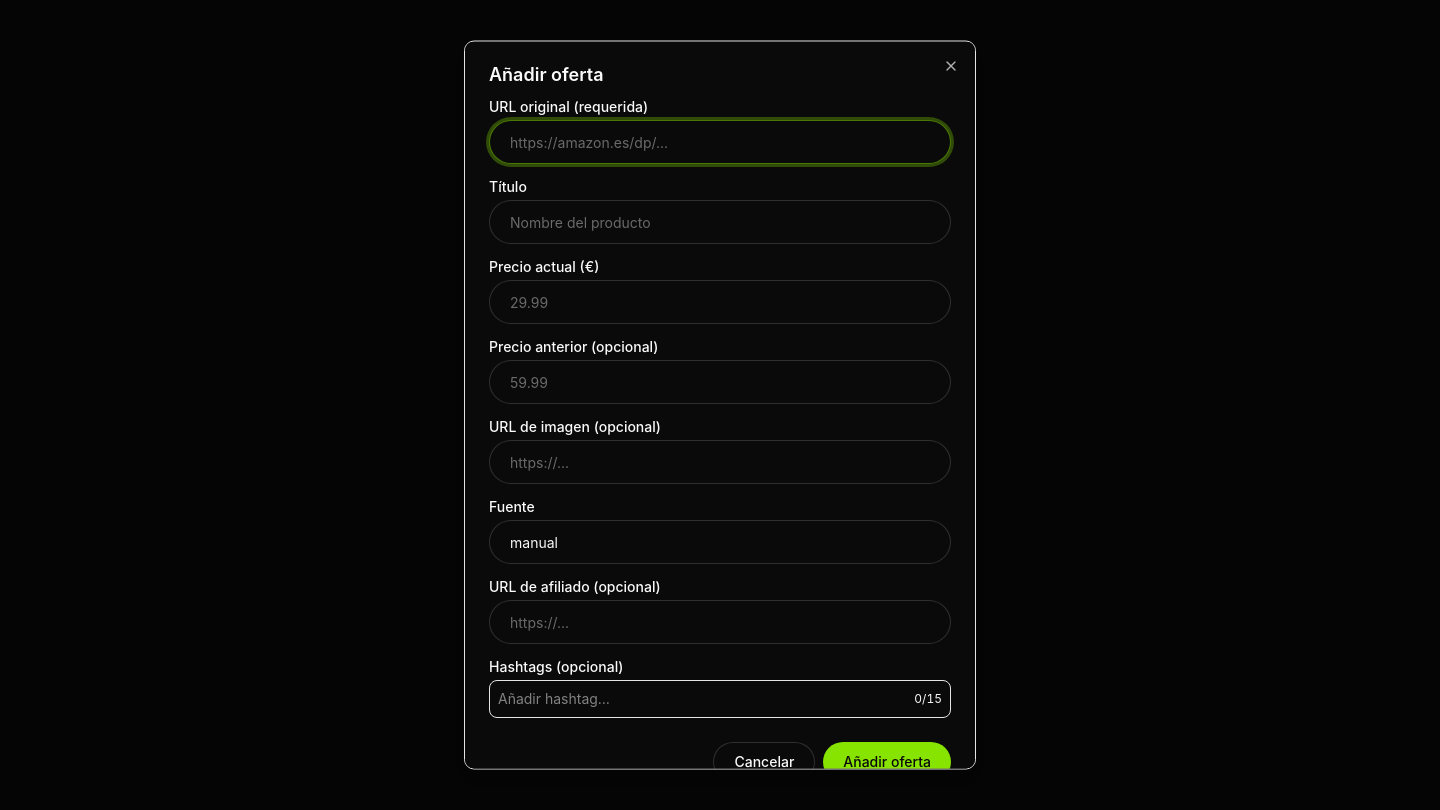
Test: AddDealDialog › (e) on server error shows message and keeps dialog open
The image size is (1440, 810).
Type "https://amazon.es/dp/B123456" into the field labelled "URL original (requerida)" at [720, 142], box [489,120,951,164]
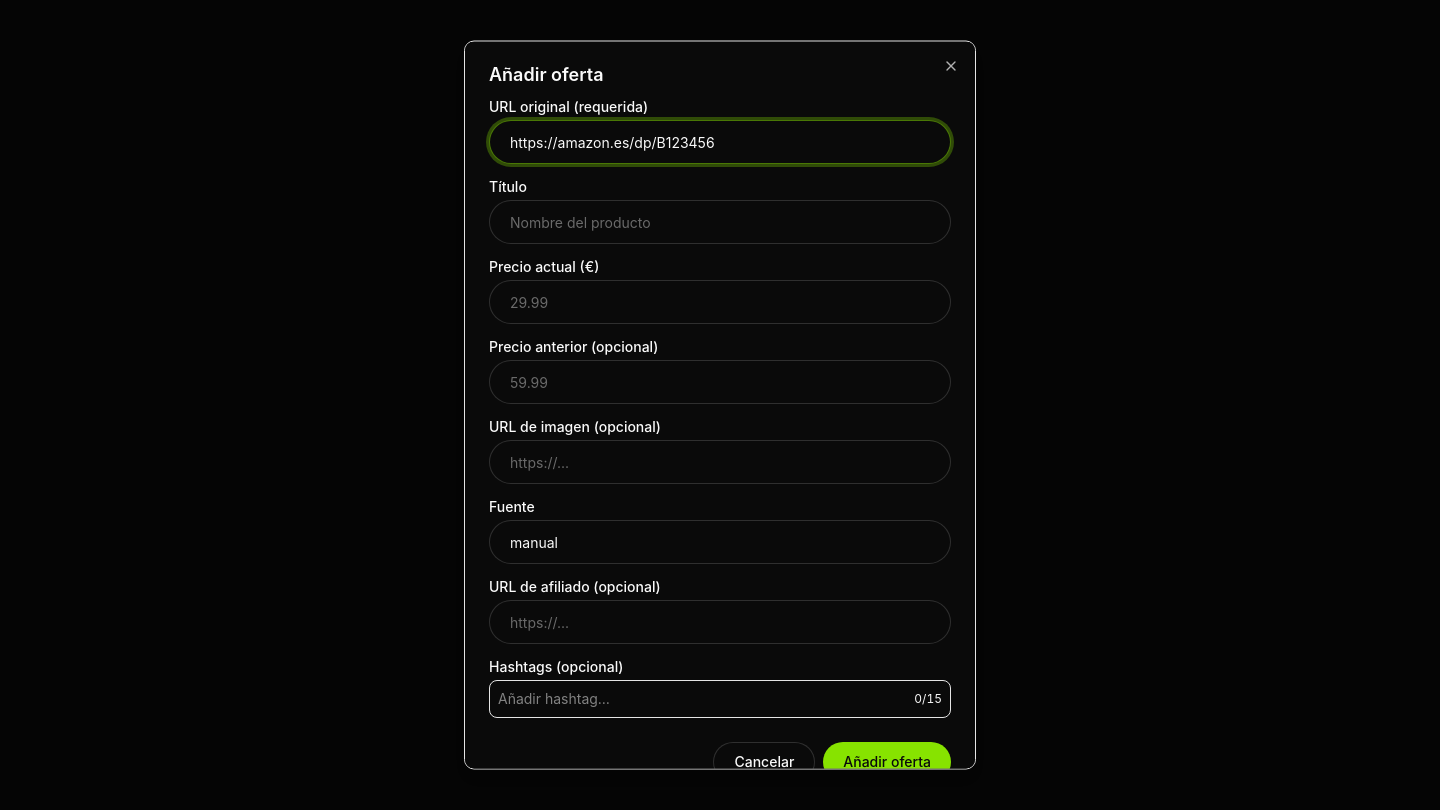
Type "Auriculares Sony" into the field labelled "Título" at [720, 222], box [489,200,951,244]
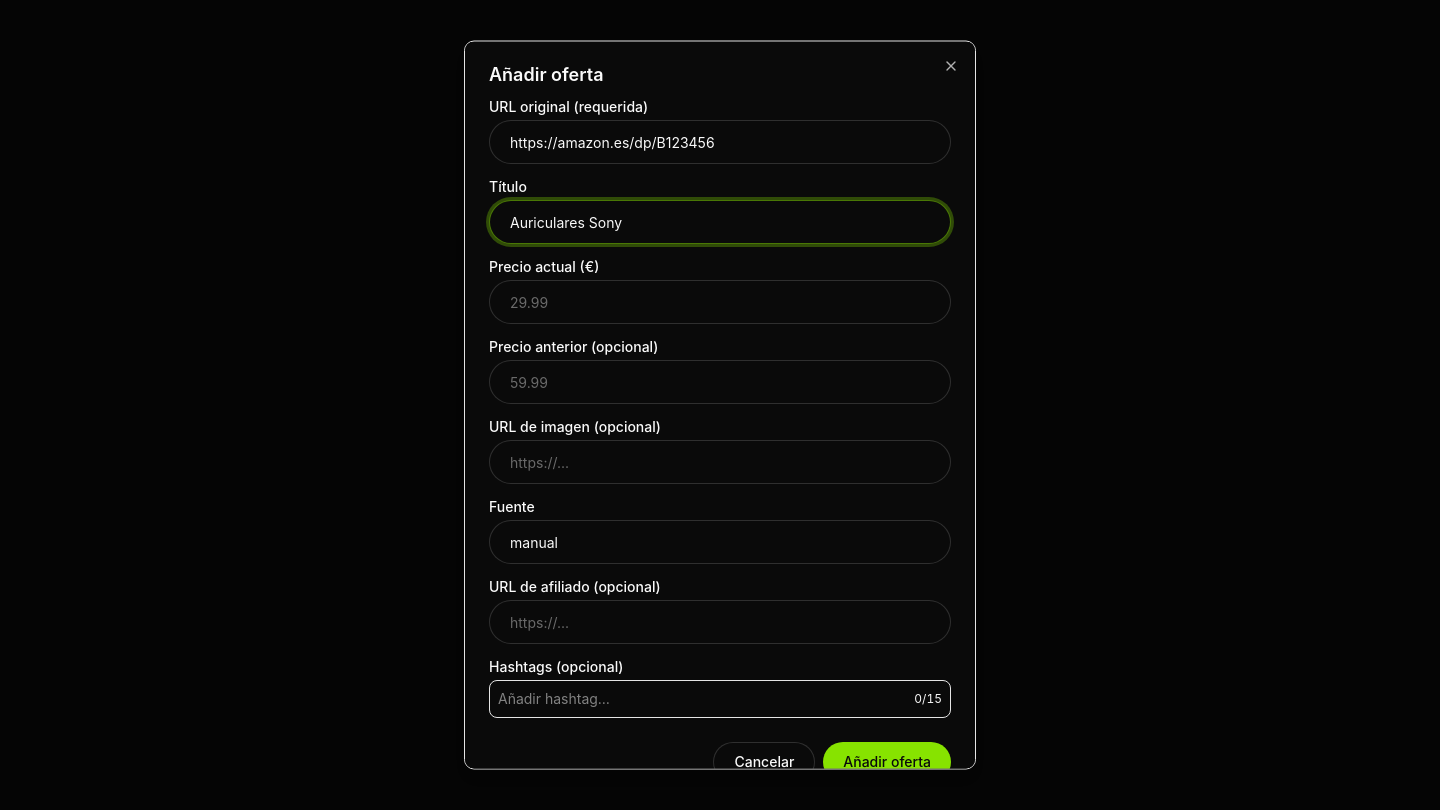
Type "199.99" into the number field labelled "Precio actual (€)" at [720, 302], box [489,280,951,324]
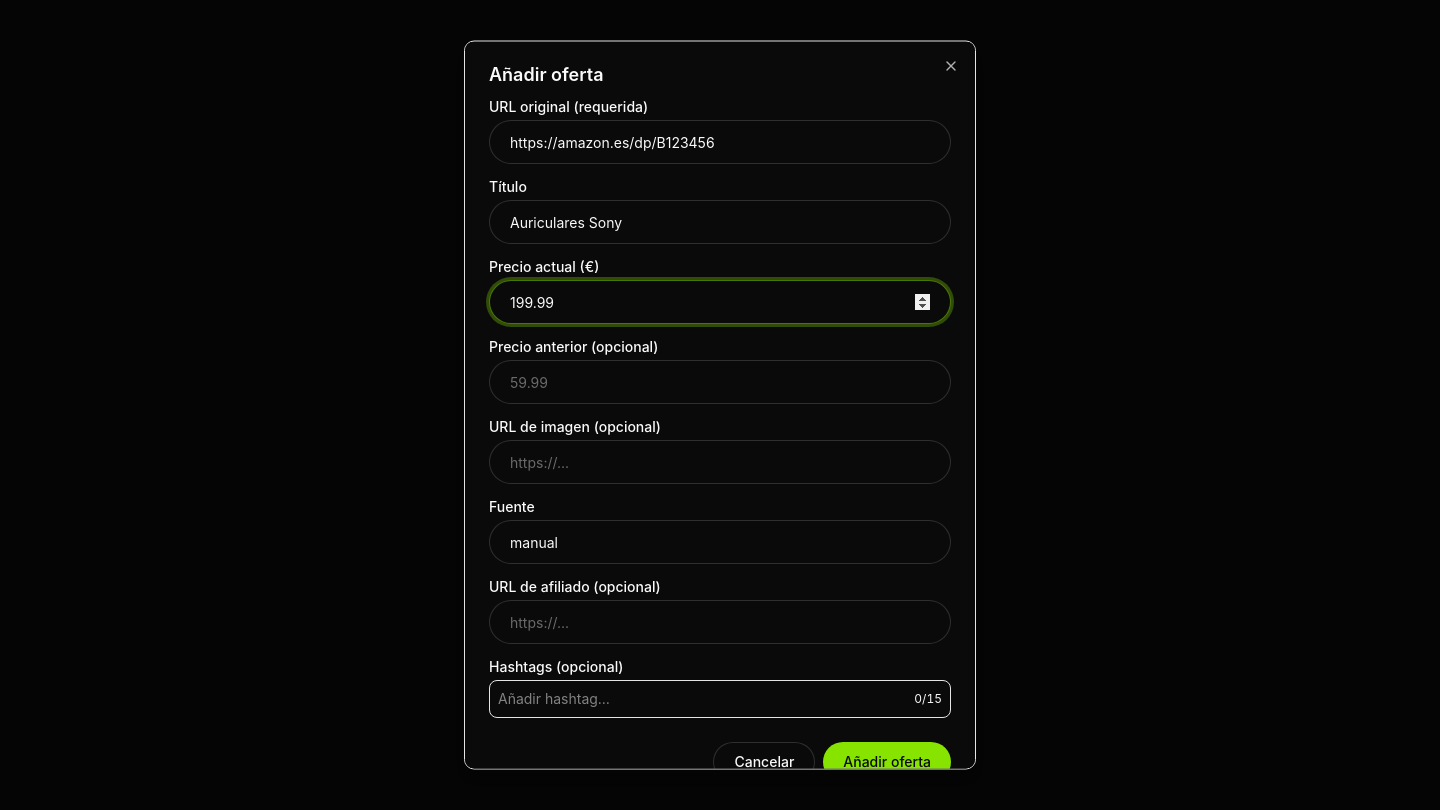
Click the button "Añadir oferta" at [887, 762], box [823,742,951,782]
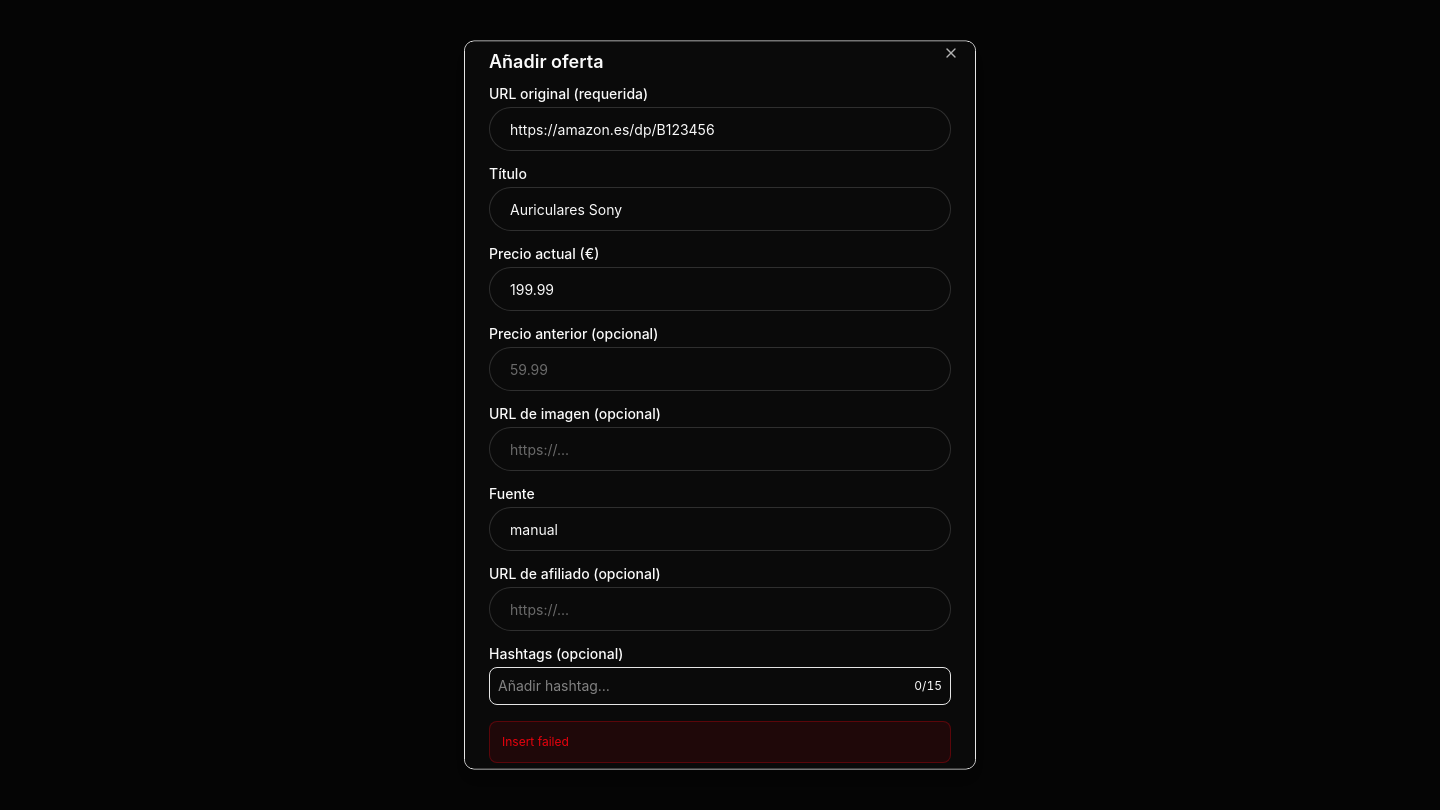
Check: the message "Insert failed" is shown, box [489,720,951,762]
